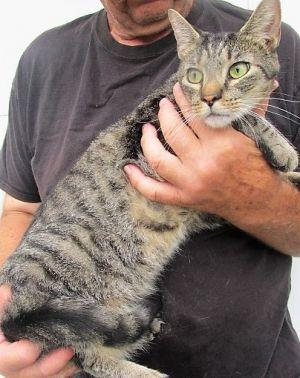bengal: (162, 1, 299, 134)
